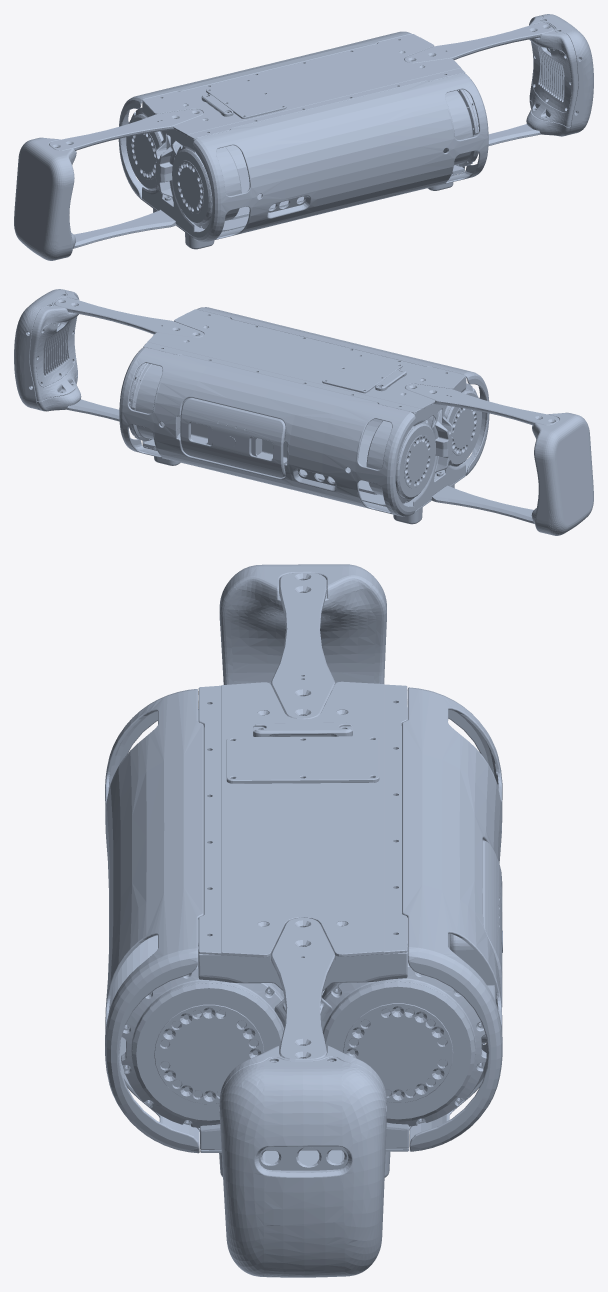
Rendered from trunk.dae.
3 views of the same model, one above another, from view 1: azimuth 30°, elevation 25°; view 2: azimuth 150°, elevation 25°; view 3: azimuth 270°, elevation 25° (orthographic). The views are drawn at different scales.
Visible parts, largest first — view 1: node.001; view 2: node.001; view 3: node.001.
Boxes of the visible parts, left/top/right/bottom form: node.001: left=14, top=14, right=593, bottom=260; node.001: left=14, top=289, right=593, bottom=535; node.001: left=105, top=564, right=502, bottom=1277.
Size of the model in its own units: 0.9745 by 0.3035 by 0.2052.
